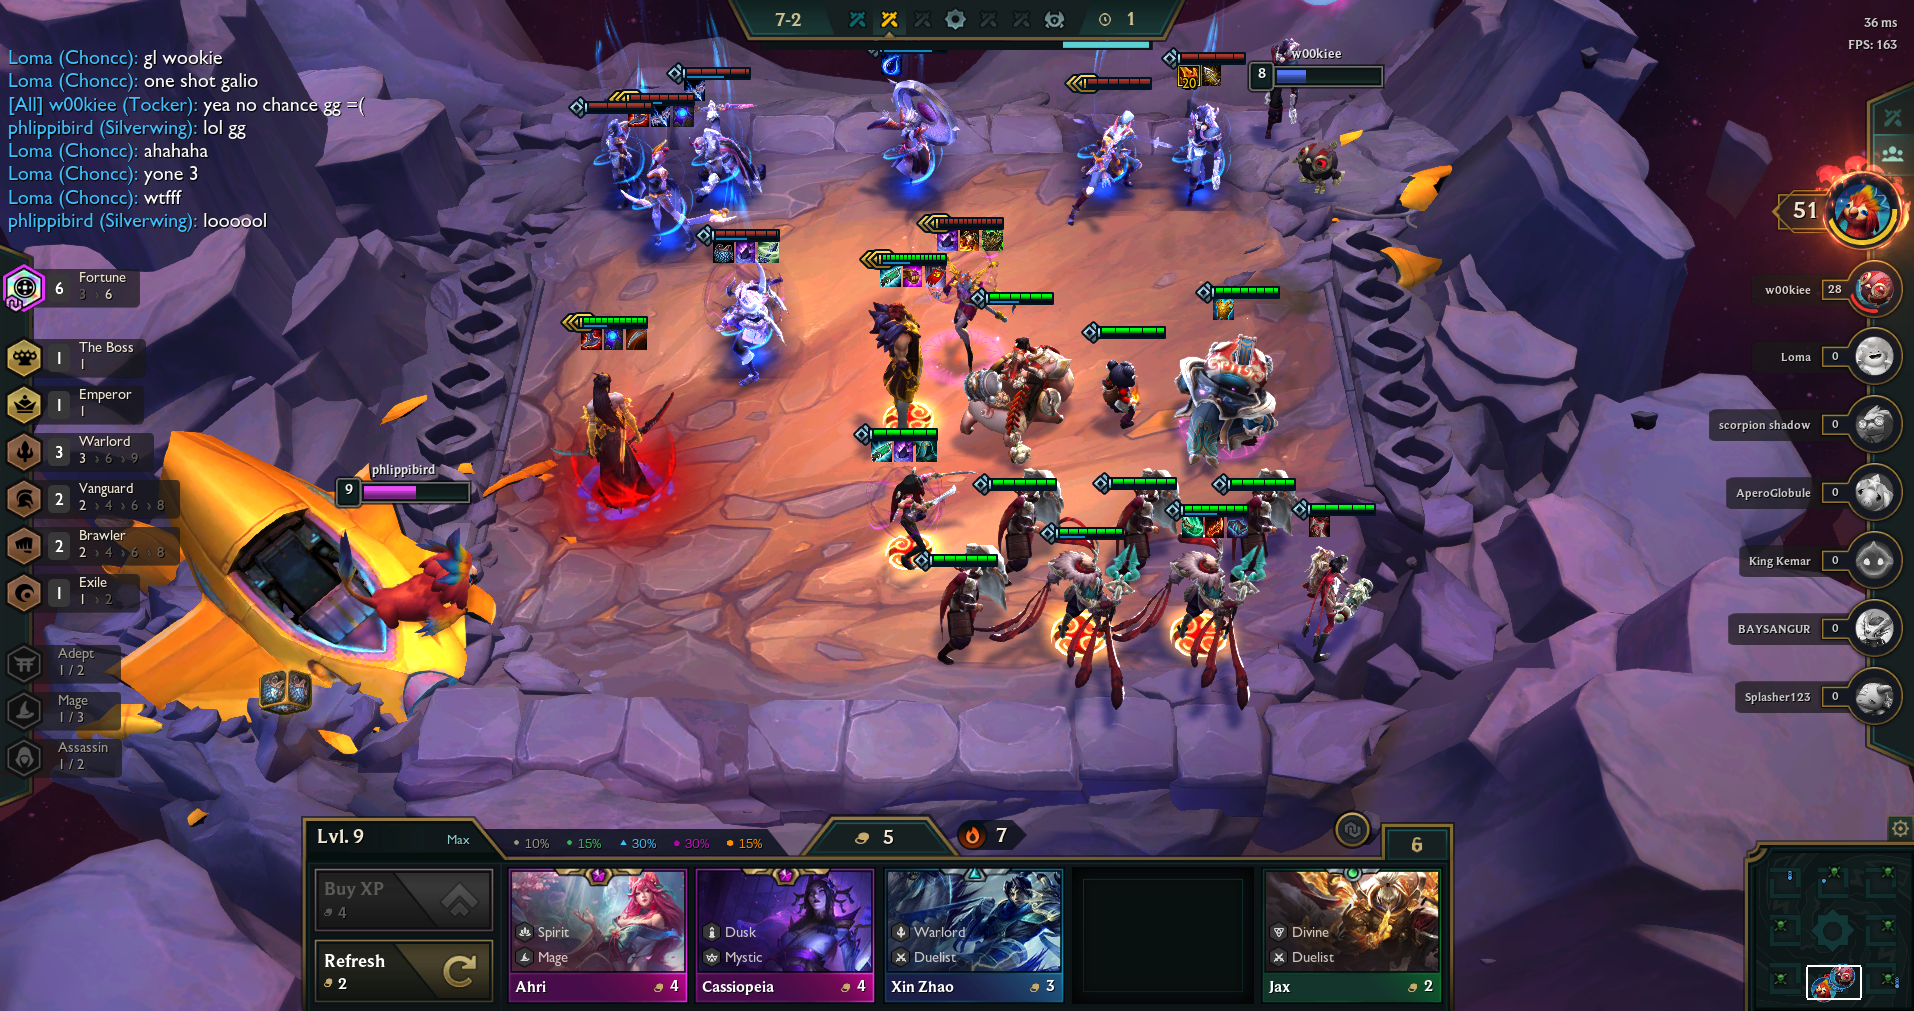2star_aatrox: (686, 213, 803, 399)
2star_annie: (1068, 309, 1185, 453)
2star_azir: (1109, 492, 1279, 723), (965, 518, 1147, 726)
2star_azirsoldier: (905, 533, 1022, 677), (954, 459, 1071, 604), (1077, 453, 1194, 597), (1191, 456, 1308, 599)
2star_jhin: (1158, 35, 1260, 225)
2star_jinx: (1280, 488, 1395, 674)
2star_katarina: (843, 412, 984, 586)
2star_pyke: (666, 46, 779, 226)
2star_sejuani: (943, 281, 1084, 469)
2star_tahmkench: (1154, 268, 1301, 467)
2star_tahmkench_chosen: (1153, 266, 1299, 464)
2star_twistefate: (561, 89, 660, 234)
2star_zilean: (860, 44, 966, 208)
3star_elise: (910, 204, 1019, 392)
3star_elise_chosen: (908, 202, 1016, 390)
3star_evelynn: (603, 77, 741, 272)
3star_kalista: (1051, 57, 1160, 245)
3star_sett: (853, 240, 961, 450)
3star_yone: (538, 294, 695, 531)
item_bluebuff: (668, 101, 697, 130), (600, 325, 628, 354)
item_chain: (709, 238, 737, 267)
item_dclaw: (623, 324, 651, 353)
item_deathblade: (1175, 62, 1203, 91)
item_guinsoo: (1201, 511, 1230, 542)
item_gunblade: (876, 262, 904, 291), (868, 437, 896, 464)
item_ie: (1198, 59, 1227, 89)
item_jeweledgauntlet: (898, 259, 927, 288)
item_morello: (1223, 511, 1253, 542)
item_quicksilver: (911, 435, 941, 464)
item_rabadon: (579, 325, 606, 354), (624, 99, 652, 128)
item_shojin: (1179, 512, 1206, 542)
item_spark: (646, 101, 673, 130), (681, 73, 709, 102)
item_sunfire: (954, 224, 984, 253)
item_tear: (876, 51, 904, 80)
item_vanguard: (1210, 295, 1238, 324)
item_warlord: (922, 259, 949, 288)
item_warmogs: (977, 224, 1005, 253)
item_zeke: (1305, 509, 1335, 540)
item_zephyr: (754, 237, 782, 266)
item_zzrot: (730, 237, 760, 266), (934, 225, 962, 254), (889, 437, 916, 464)
trait_adept1: (1, 636, 185, 685)
trait_assassin1: (1, 731, 185, 779)
trait_brawler2: (1, 523, 185, 571)
trait_emperor1: (1, 380, 185, 426)
trait_exile1: (1, 568, 185, 616)
trait_fortune6: (1, 261, 185, 315)
trait_fortune_chosen: (1, 262, 49, 313)
trait_mage1: (1, 685, 185, 733)
trait_theboss1: (1, 333, 185, 381)
trait_vanguard2: (1, 476, 185, 524)
trait_warlord3: (1, 426, 185, 474)
